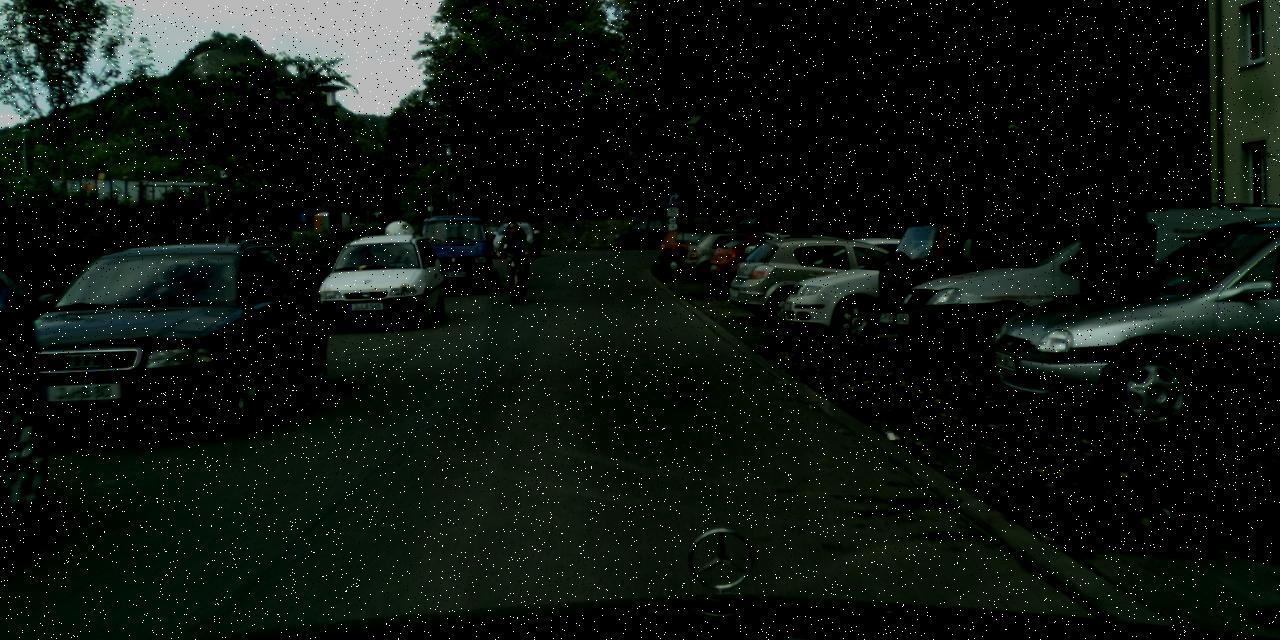ped: (501, 222, 527, 287)
